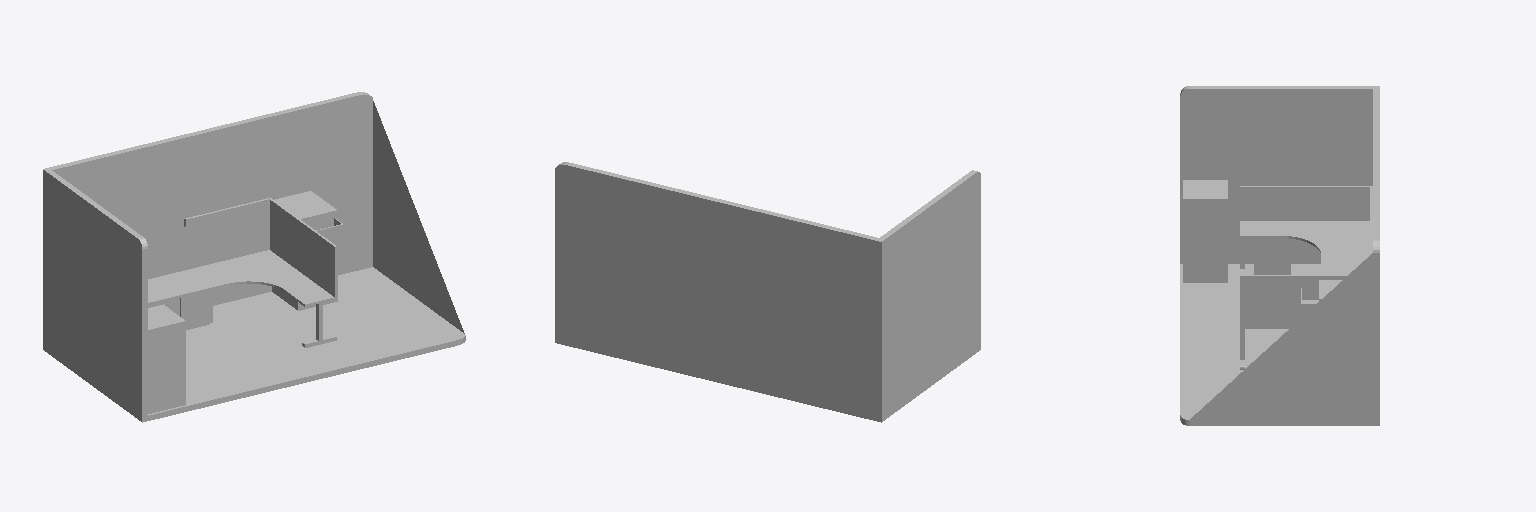
File: TheStanleyParablev11.obj
3 views of the same model, side by side, from view 1: azimuth 30°, elevation 25°; view 2: azimuth 150°, elevation 25°; view 3: azimuth 270°, elevation 25° (orthographic).
Parts seen in each view (by area): view 1: Room, Table, Files1, Files2, SmallFiles3; view 2: Room; view 3: Room, Table, Files1, SmallFiles1.
Boxes of the visible parts, x1=… form: Room: x1=43, y1=92, x2=465, y2=422; Table: x1=146, y1=198, x2=336, y2=306; Files1: x1=148, y1=304, x2=185, y2=413; Files2: x1=272, y1=191, x2=337, y2=310; SmallFiles3: x1=180, y1=290, x2=212, y2=329; Room: x1=555, y1=162, x2=980, y2=422; Room: x1=1180, y1=86, x2=1379, y2=425; Table: x1=1240, y1=186, x2=1372, y2=328; Files1: x1=1183, y1=180, x2=1227, y2=282; SmallFiles1: x1=1254, y1=238, x2=1290, y2=274.
Bounding box in the file's own units: 14.2 × 7.5 × 7.5.